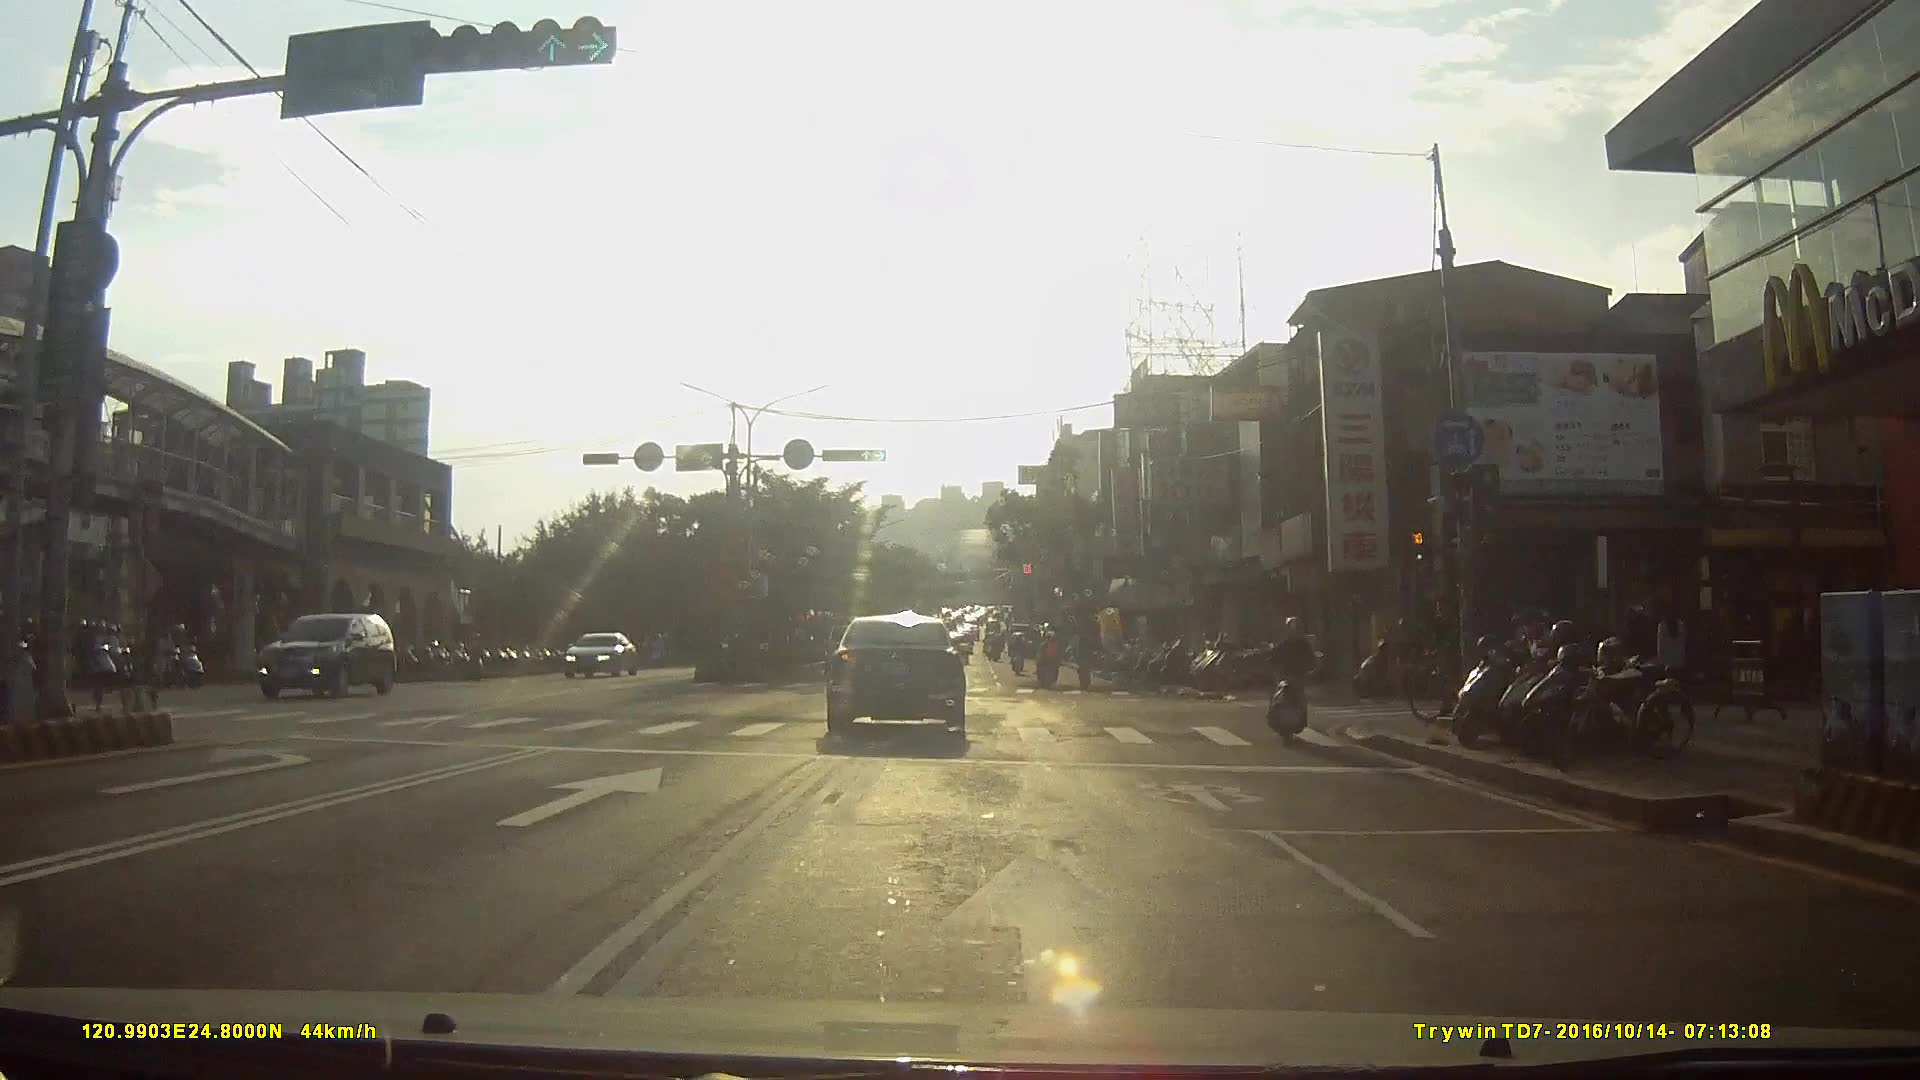pedestrian: (1652, 599, 1689, 705)
rider: (1267, 617, 1327, 743), (144, 619, 209, 691), (64, 625, 126, 690), (1037, 631, 1066, 694), (1007, 635, 1030, 680)
vehicle: (827, 609, 983, 748), (255, 612, 406, 700), (564, 632, 642, 682)
